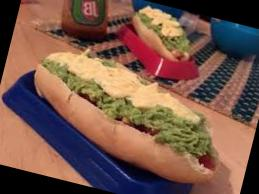Completos: (16, 40, 234, 191)
